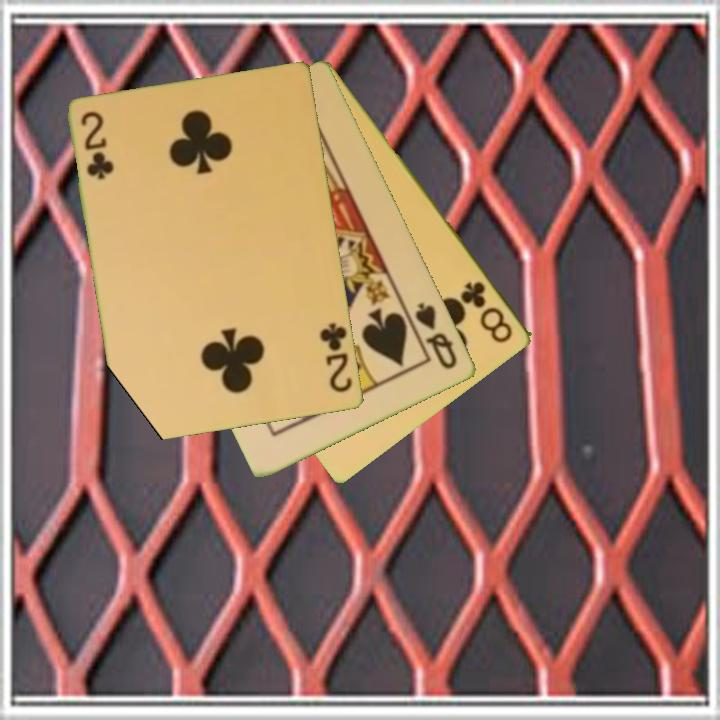2c: (316, 319, 356, 396), (78, 108, 115, 183)
8c: (457, 278, 516, 346)
Qs: (412, 299, 461, 372)
